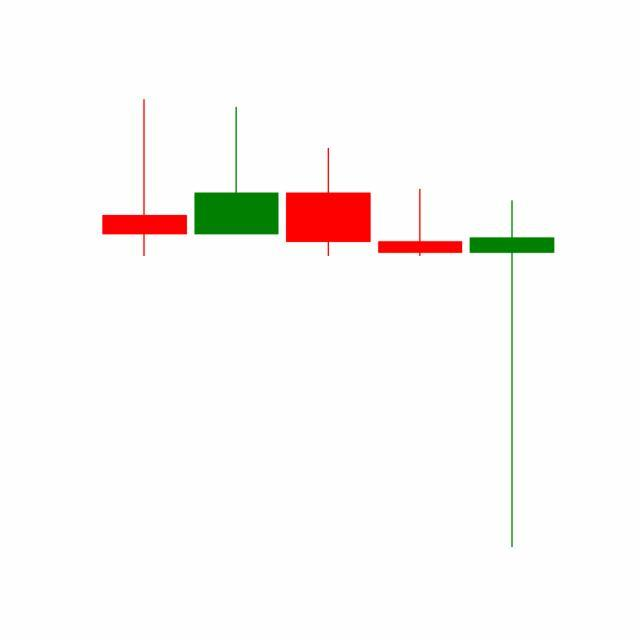Gravestone Doji: (374, 188, 468, 258)
